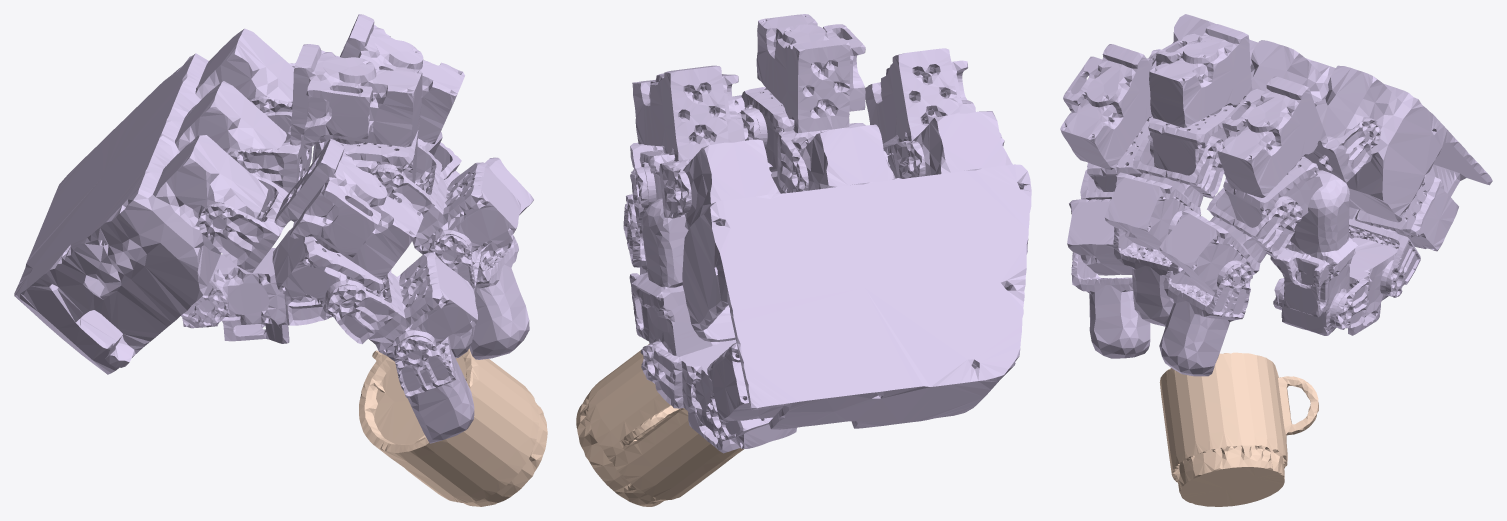
File: ac728b9661bbbd-closed.glb
The picture shows the model from 3 angles, left to right: view 1: azimuth 30°, elevation 25°; view 2: azimuth 150°, elevation 25°; view 3: azimuth 270°, elevation 25°; orthographic projection. The views are drawn at different scales.
Visible parts, largest first — view 1: LEAP_hand, world; view 2: LEAP_hand, world; view 3: LEAP_hand, world.
Boxes of the visible parts, box(x1,y1,x2,y2) form: LEAP_hand: box(14, 14, 533, 443); world: box(359, 348, 547, 506); LEAP_hand: box(623, 14, 1031, 453); world: box(576, 344, 743, 506); LEAP_hand: box(1060, 14, 1492, 376); world: box(1159, 352, 1318, 506).
Size of the model in its own units: 0.2021 by 0.2005 by 0.1909.
